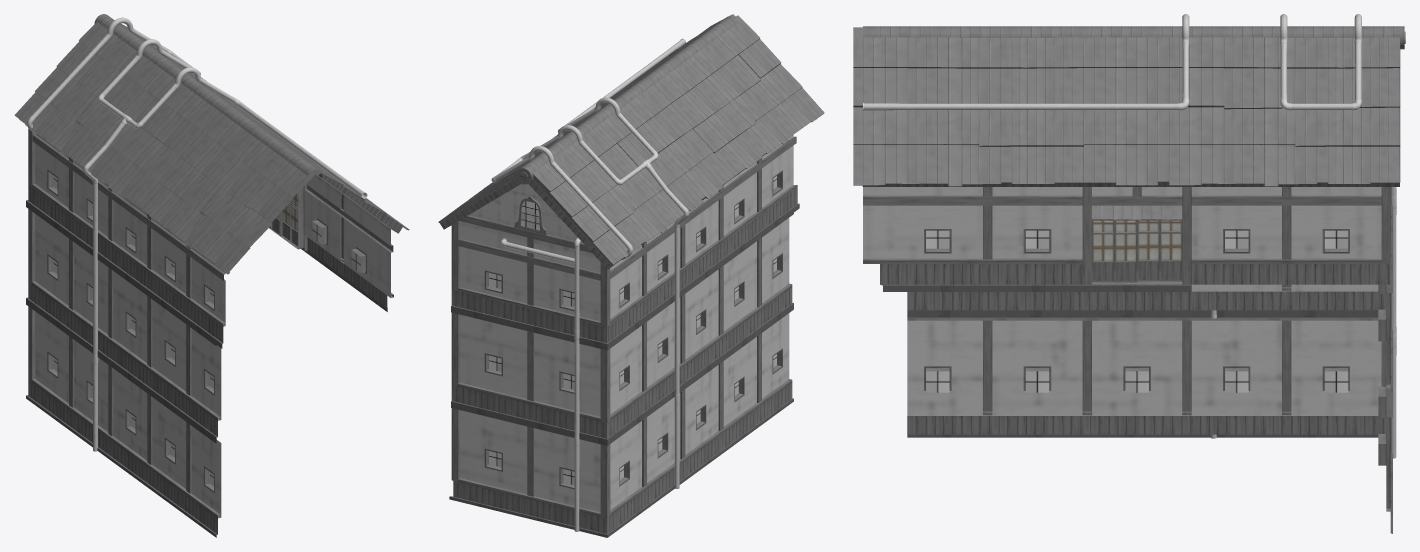
Rendered from SM_ENV_KNVLLG_AreaH_Building_A_3.mo.fbx.
3 views of the same model, side by side, from view 1: azimuth 30°, elevation 25°; view 2: azimuth 150°, elevation 25°; view 3: azimuth 270°, elevation 25° (orthographic). The views are drawn at different scales.
Parts seen in each view (by area): view 1: SM_ENV_KNVLLG_AreaH_Building_A_3.mo; view 2: SM_ENV_KNVLLG_AreaH_Building_A_3.mo; view 3: SM_ENV_KNVLLG_AreaH_Building_A_3.mo.
Part boxes in pixels (left/top/right/bottom): SM_ENV_KNVLLG_AreaH_Building_A_3.mo: left=14, top=14, right=409, bottom=537; SM_ENV_KNVLLG_AreaH_Building_A_3.mo: left=438, top=14, right=824, bottom=537; SM_ENV_KNVLLG_AreaH_Building_A_3.mo: left=853, top=14, right=1405, bottom=533.
Size of the model in its own units: 11.92 by 22.81 by 24.17.
